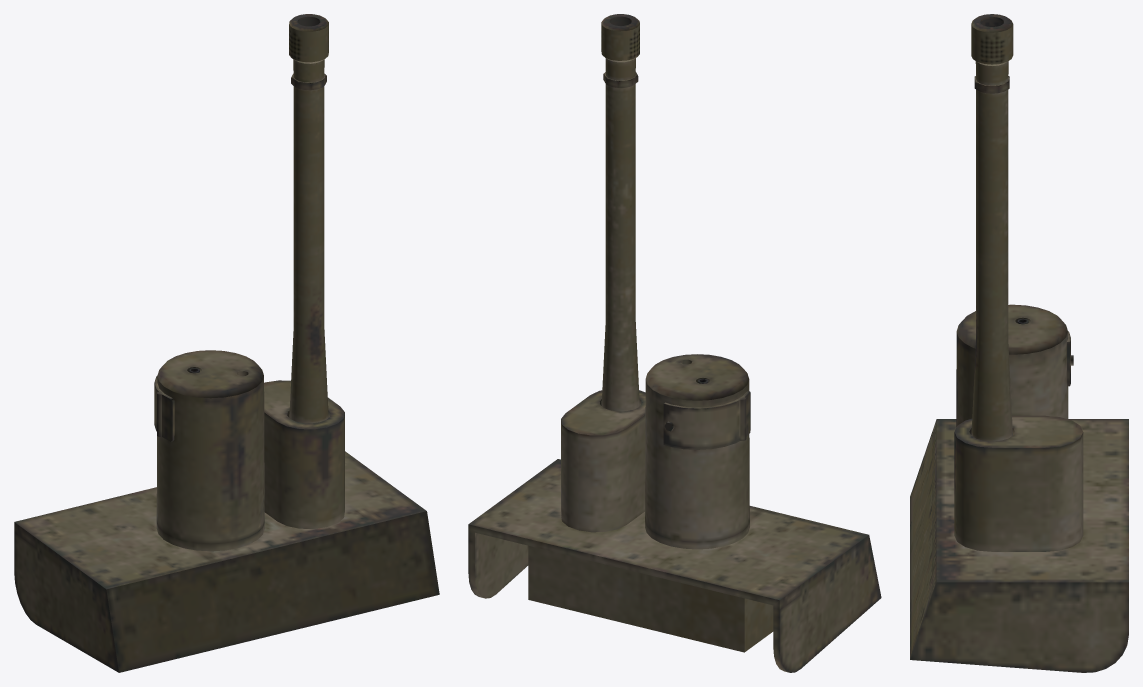
File: Gun_01.glb
The picture shows the model from 3 angles, left to right: view 1: azimuth 30°, elevation 25°; view 2: azimuth 150°, elevation 25°; view 3: azimuth 270°, elevation 25°; orthographic projection. The views are drawn at different scales.
Visible parts, largest first — view 1: set_0_group_0; view 2: set_0_group_0; view 3: set_0_group_0.
Boxes of the visible parts, bbox=[...] form: set_0_group_0: bbox=[14, 14, 439, 672]; set_0_group_0: bbox=[468, 14, 881, 672]; set_0_group_0: bbox=[910, 14, 1128, 672].
Size of the model in its own units: 0.774 by 1.34 by 0.4384.
1 material, 1 textured.
